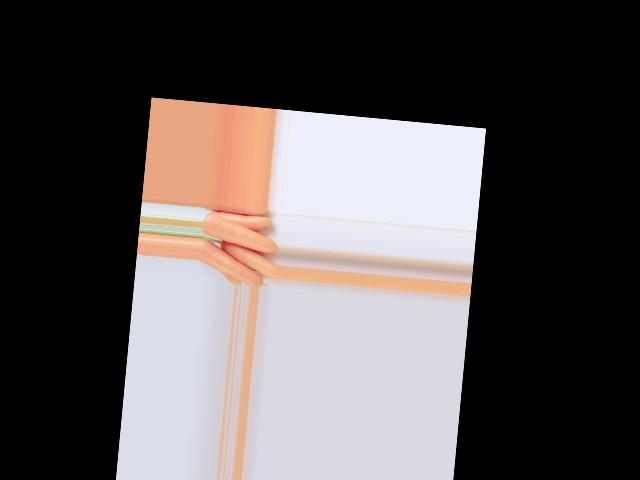carrot: (205, 206, 275, 231)
